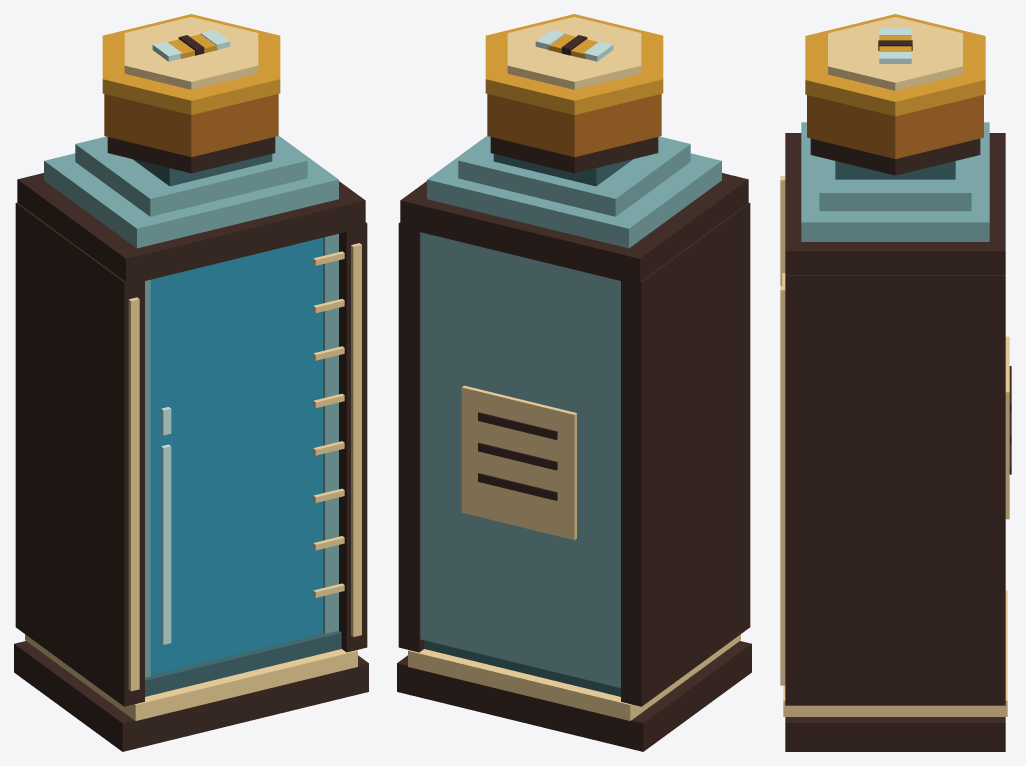
The model's file is water-bottle.glb.
3 views of the same model, side by side, from view 1: azimuth 30°, elevation 25°; view 2: azimuth 150°, elevation 25°; view 3: azimuth 270°, elevation 25° (orthographic).
Parts seen in each view (by area): view 1: Bottle_Shell, Water_Fill; view 2: Bottle_Shell; view 3: Bottle_Shell.
Boxes of the visible parts, bbox=[...] form: Bottle_Shell: bbox=[14, 14, 368, 751]; Water_Fill: bbox=[150, 238, 323, 675]; Bottle_Shell: bbox=[397, 14, 751, 751]; Bottle_Shell: bbox=[780, 14, 1011, 751].
Size of the model in its own units: 1.44 by 3.57 by 1.15.
